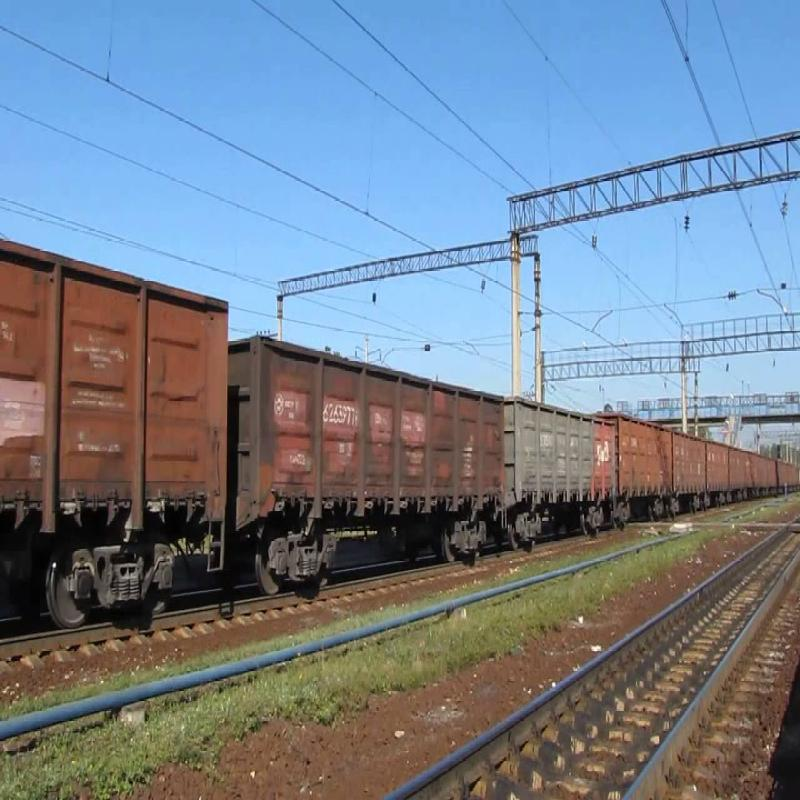train: (21, 204, 502, 611), (479, 371, 625, 558), (604, 416, 710, 525)
